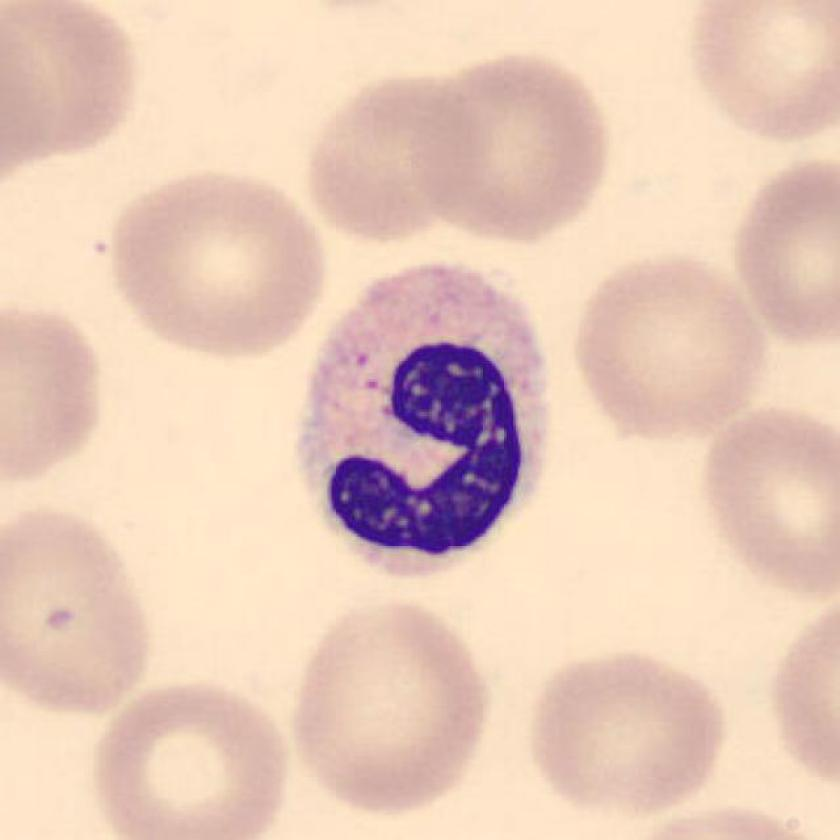neutrophil: (296, 265, 550, 571)
